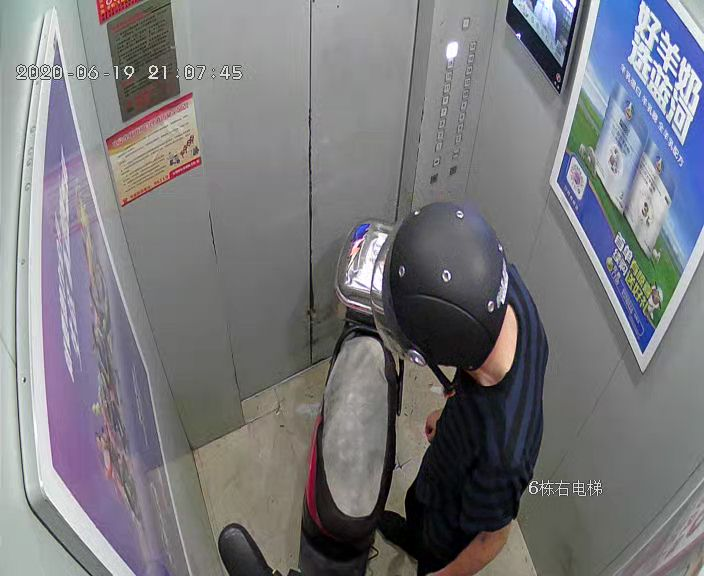Electric-bicycle: (216, 220, 396, 571)
